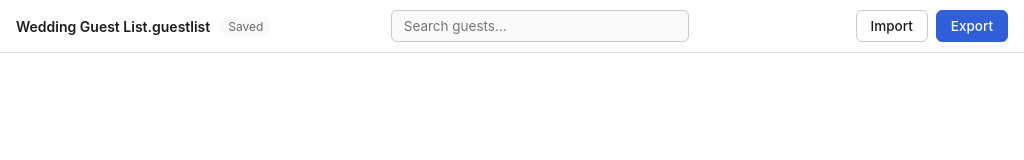
Toolbar filename editing › shows the title with a .guestlist suffix and starts editing on click
Step 1. Click the button "Wedding Guest List.guestlist" → {"x": 113, "y": 26}, box x1=12 y1=16 x2=214 y2=36
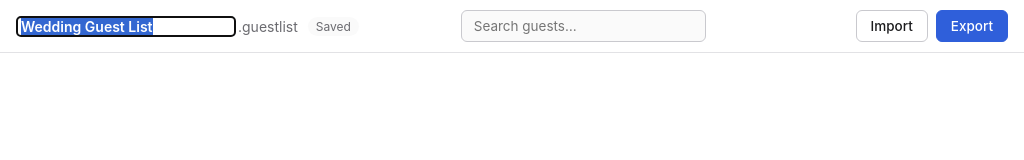
Check: the field showing "Wedding Guest List" is shown, box x1=16 y1=16 x2=236 y2=36
